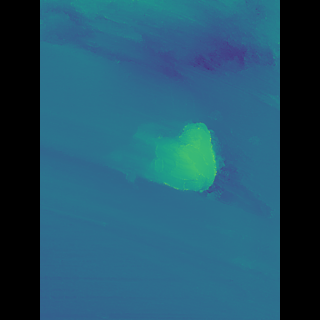Loch: (71, 0, 251, 101), (124, 115, 244, 222)
